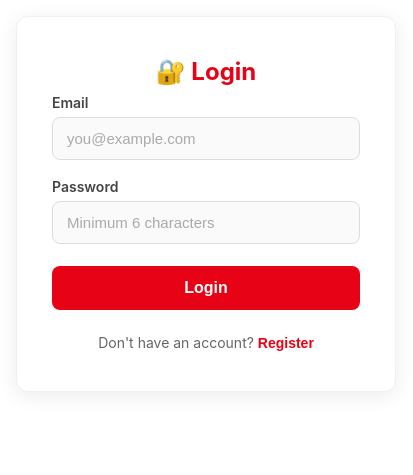
AuthForm › Form toggle › should clear error when toggling between Login and Register
Type "test@example.com" into the field labelled "Email".
click(206, 138); type("test@example.com")  # box [52, 117, 360, 160]
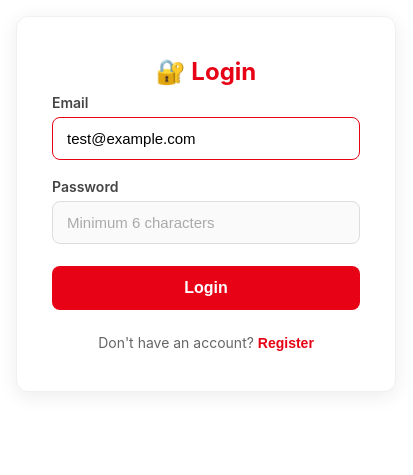
Type "wrong" into the password field labelled "Password".
click(206, 222); type("wrong")  # box [52, 201, 360, 244]
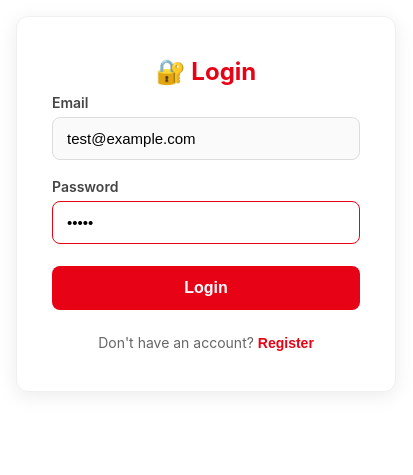
Click the button "Login".
click(206, 288)  # box [52, 266, 360, 310]
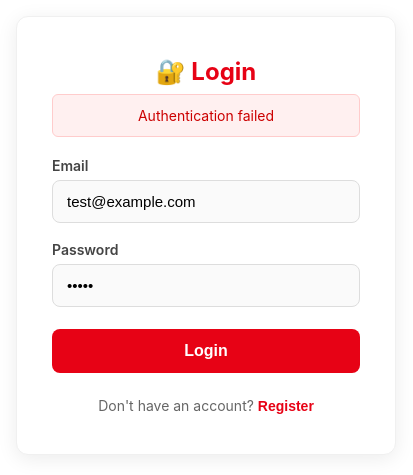
Result: the text "Authentication failed" is shown at [52, 94, 360, 137]
Toggle form → error should clear
Click the button "Register".
click(286, 406)  # box [258, 398, 314, 414]
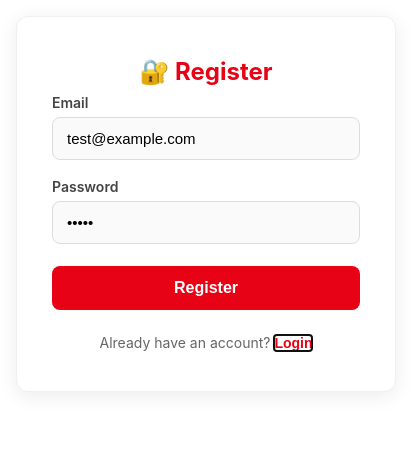
Result: the text "Authentication failed" is gone
